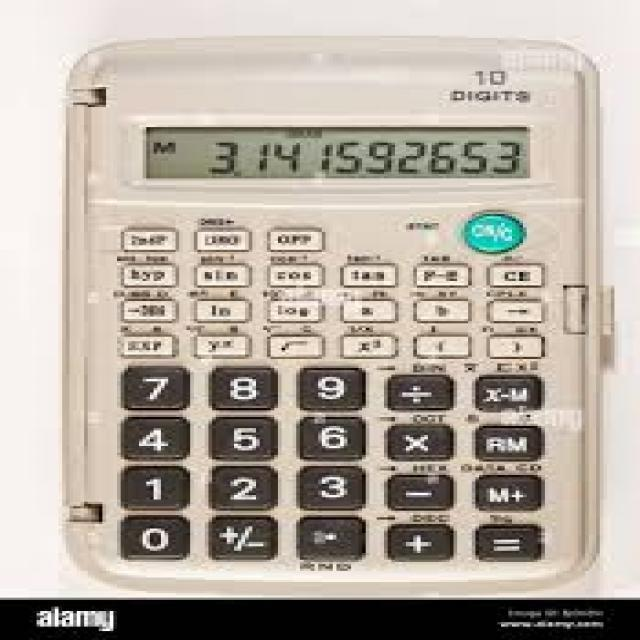Calculator: (60, 36, 618, 595)
